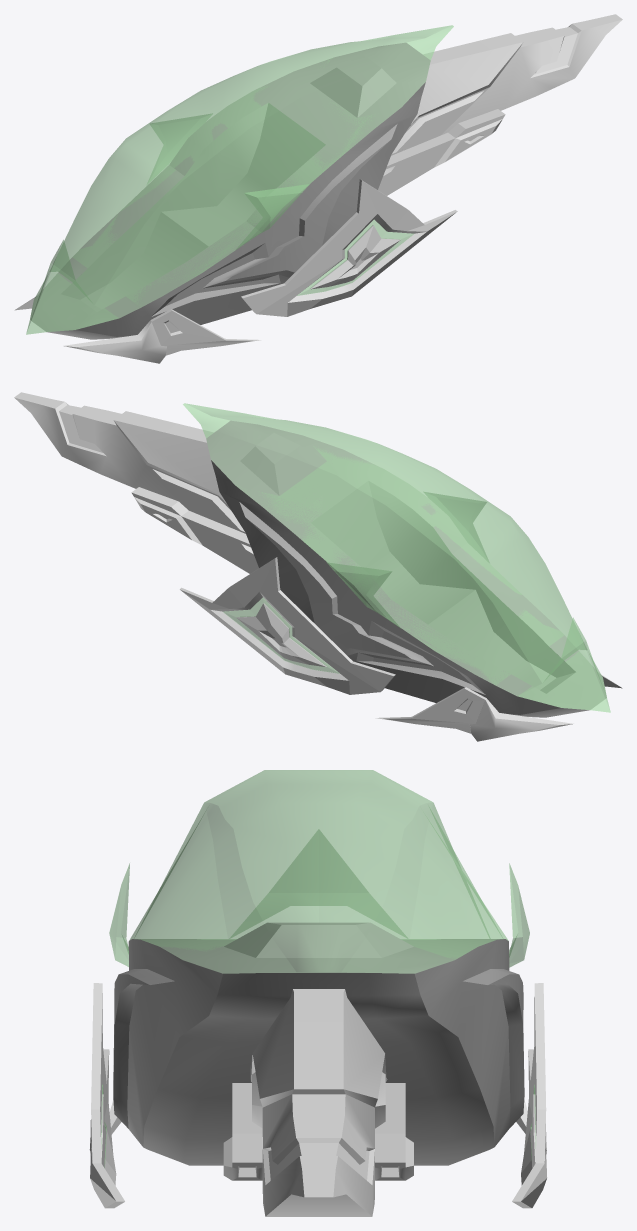
The model's file is Player_Pueba_NO_USAR_NO_USARNO_USAR.fbx.
3 views of the same model, one above another, from view 1: azimuth 30°, elevation 25°; view 2: azimuth 150°, elevation 25°; view 3: azimuth 270°, elevation 25° (orthographic). The views are drawn at different scales.
Parts seen in each view (by area): view 1: Cuerpo_Base1; view 2: Cuerpo_Base1; view 3: Cuerpo_Base1.
Boxes of the visible parts, <box> form: Cuerpo_Base1: <box>14,14,622,363</box>; Cuerpo_Base1: <box>14,392,622,741</box>; Cuerpo_Base1: <box>89,770,547,1216</box>.
Bounding box in the file's own units: 5.99 × 2.17 × 2.
